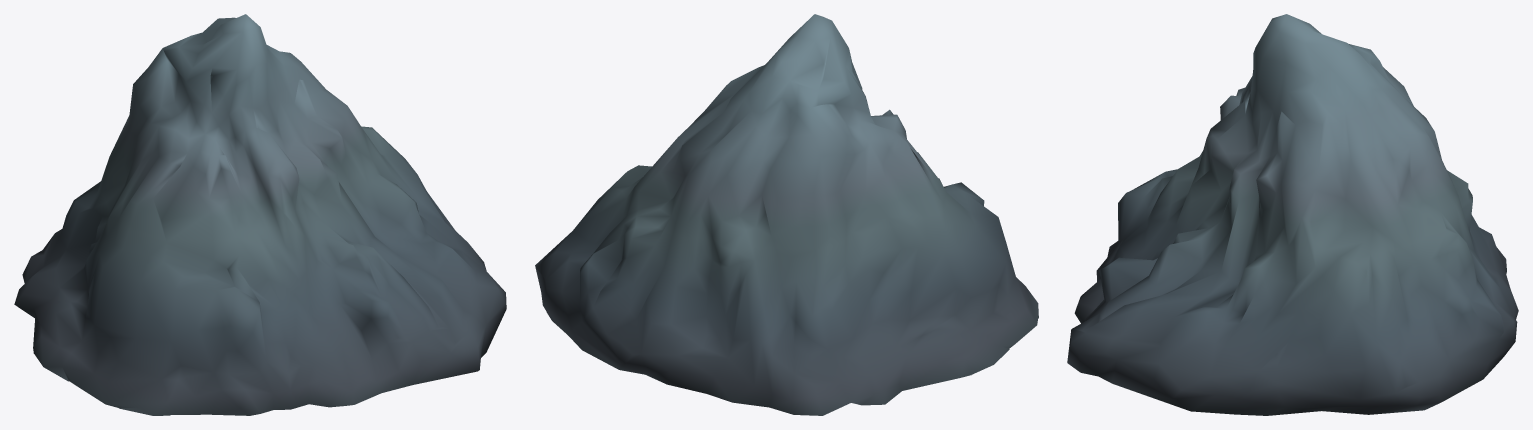
Rendered from MountainSnowy_3.fbx.
The picture shows the model from 3 angles, left to right: view 1: azimuth 30°, elevation 25°; view 2: azimuth 150°, elevation 25°; view 3: azimuth 270°, elevation 25°; orthographic projection. The views are drawn at different scales.
Parts seen in each view (by area): view 1: MountainSnowy_3; view 2: MountainSnowy_3; view 3: MountainSnowy_3.
Part boxes in pixels (<box>): MountainSnowy_3: <box>14,14,506,415</box>; MountainSnowy_3: <box>535,14,1038,415</box>; MountainSnowy_3: <box>1067,14,1518,415</box>.
Bounding box in the file's own units: 1214 × 848 × 1144.
